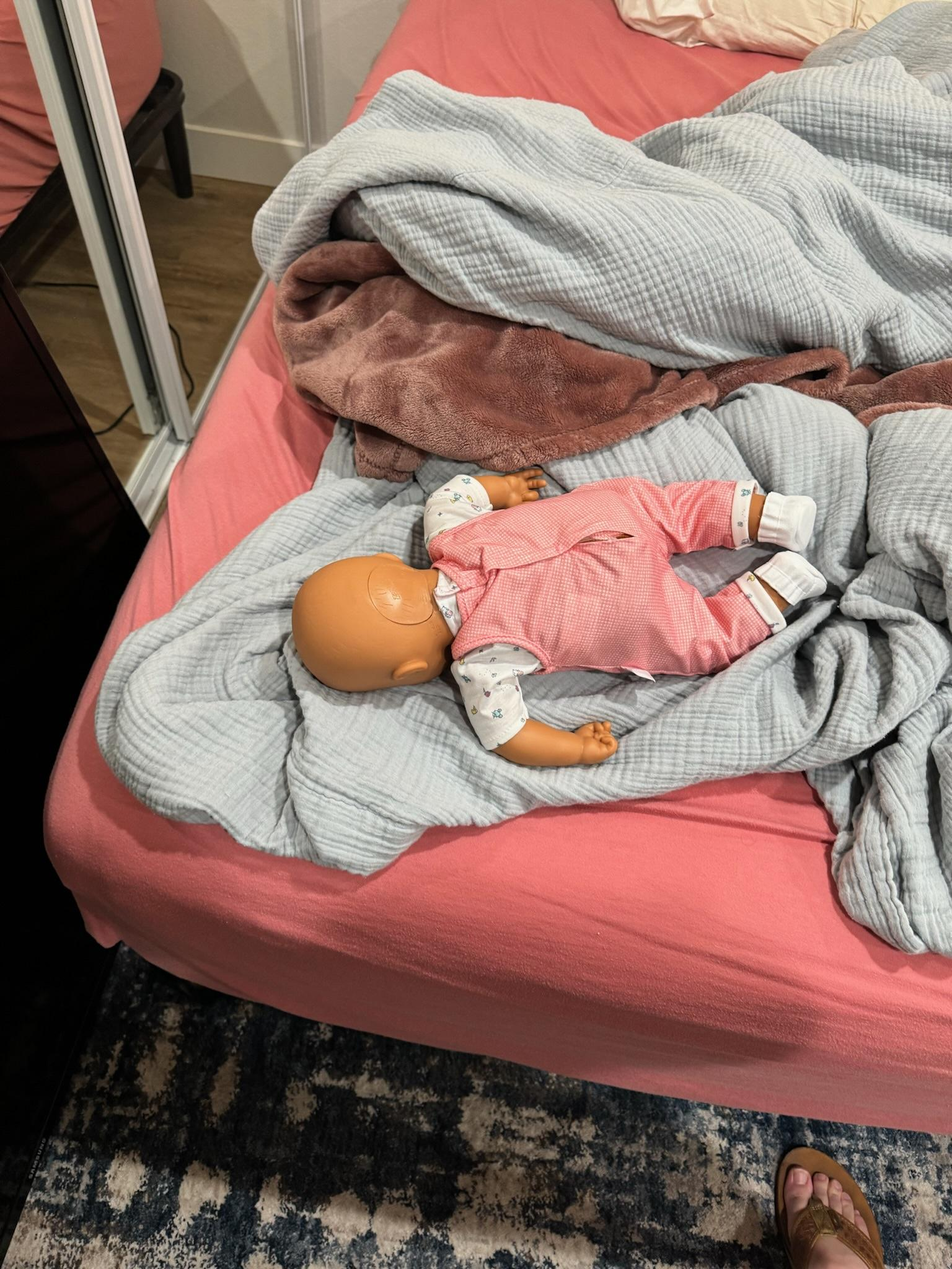baby: (283, 459, 831, 772)
